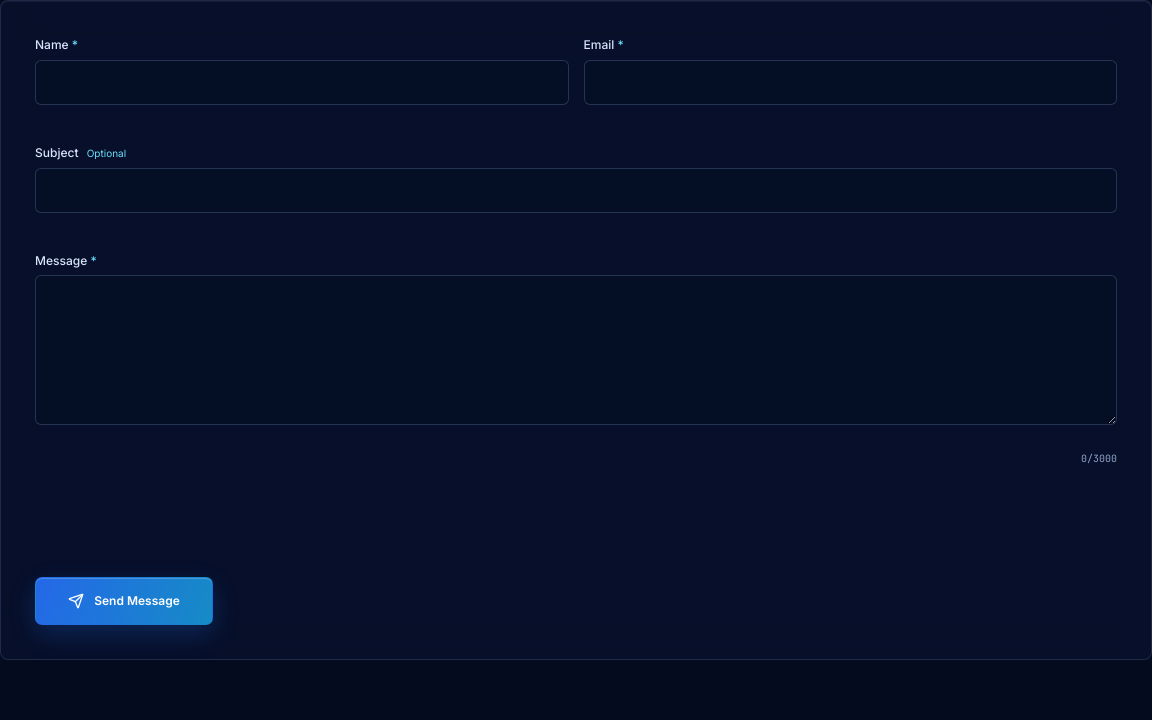
it: contact form › shows the success card after a successful request
In the field labelled "Name *": coordinates (302, 82) [35,60,568,105], type "Taylor Example"
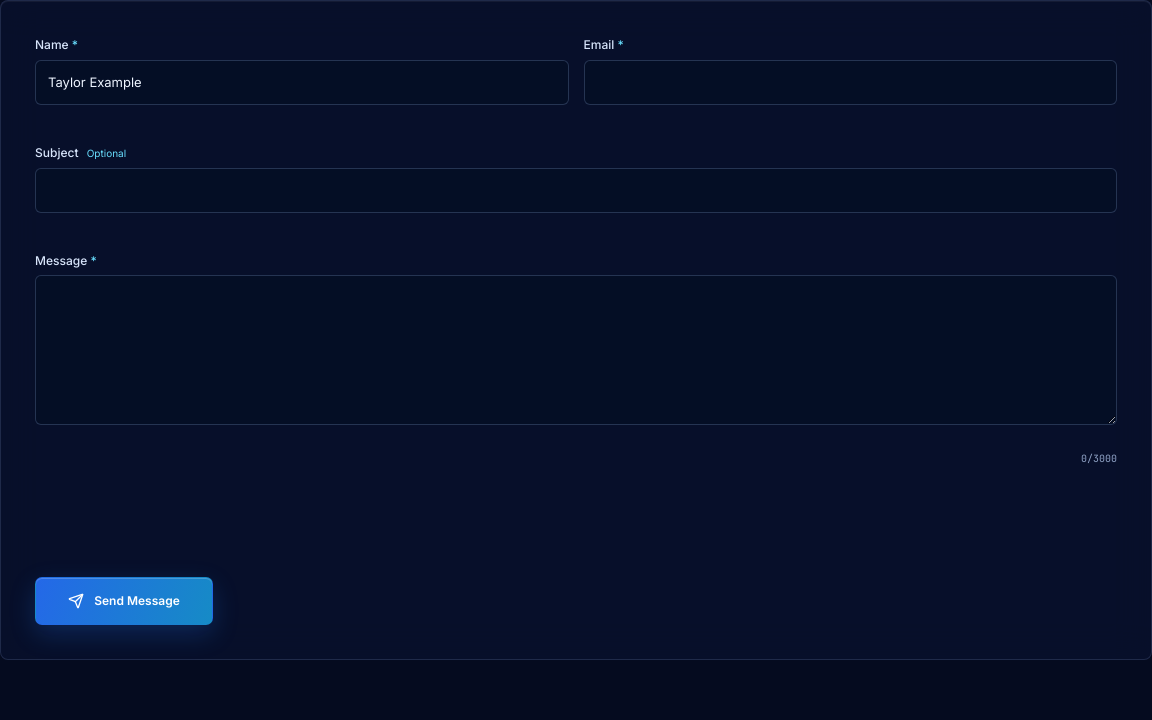
In the field labelled "Email *": coordinates (850, 82) [584,60,1117,105], type "taylor@example.test"
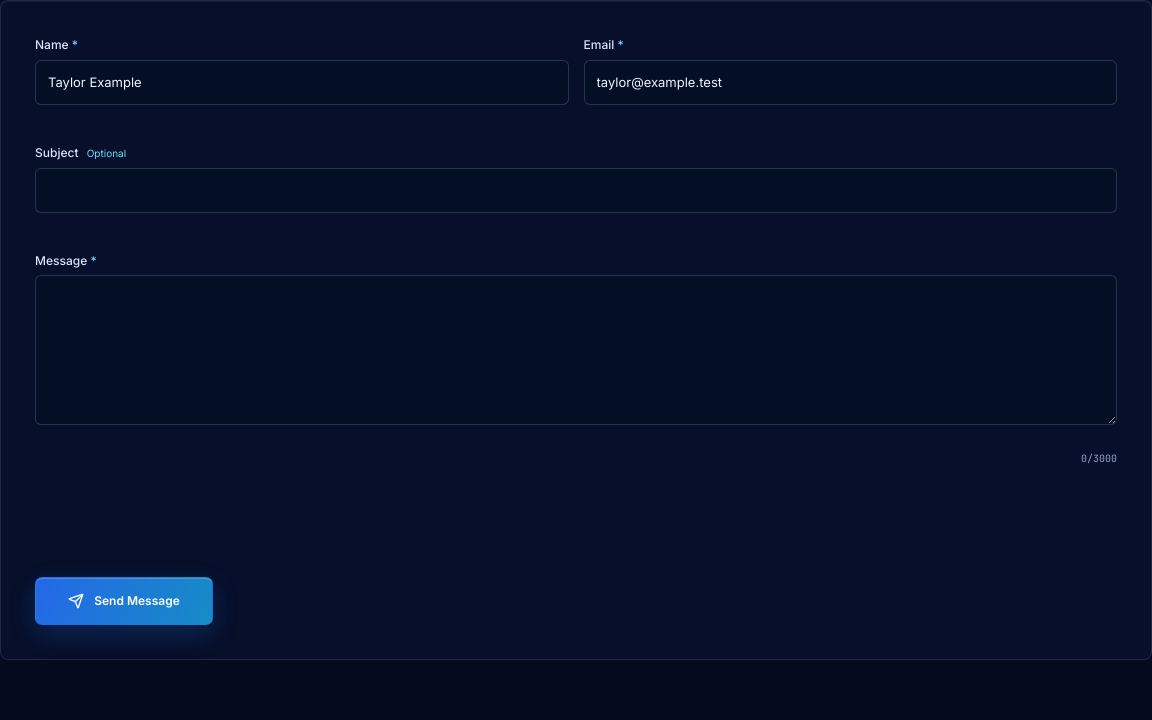
In the text box labelled "Message *": coordinates (576, 350) [35,275,1117,425], type "I would like to discuss a portfolio project."
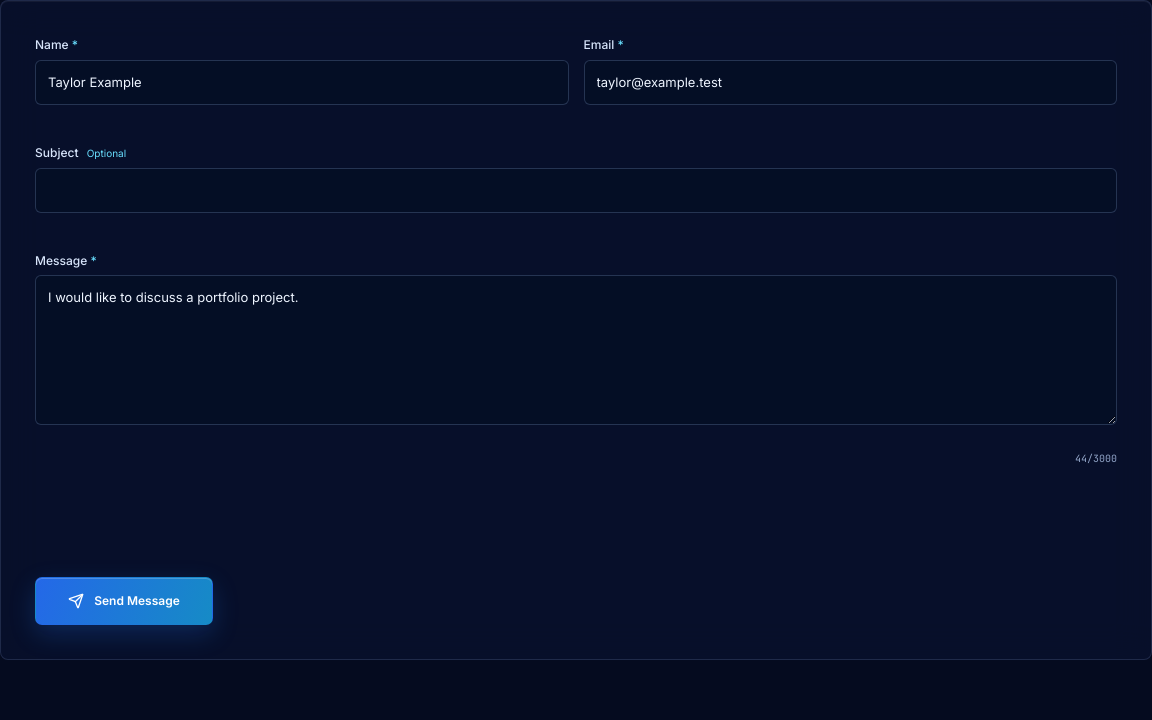
Click the button "Send Message": coordinates (124, 601) [35,577,213,625]
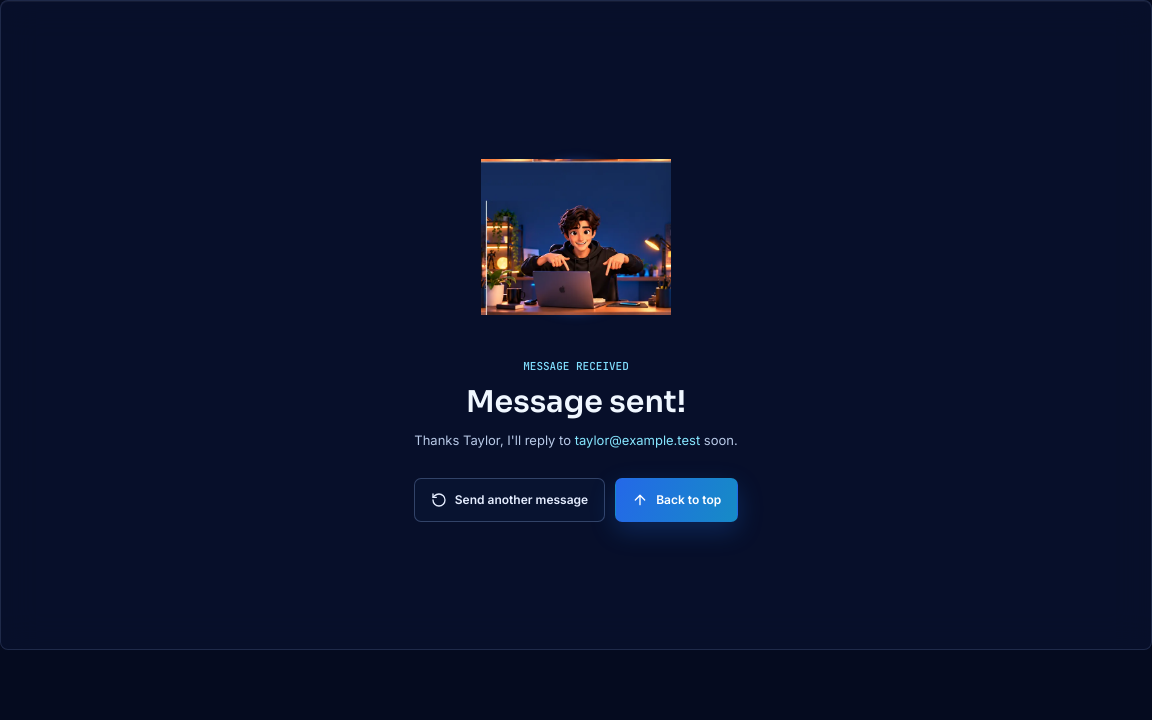
Result: the heading "Message sent!" is shown at [466,384,686,421]
